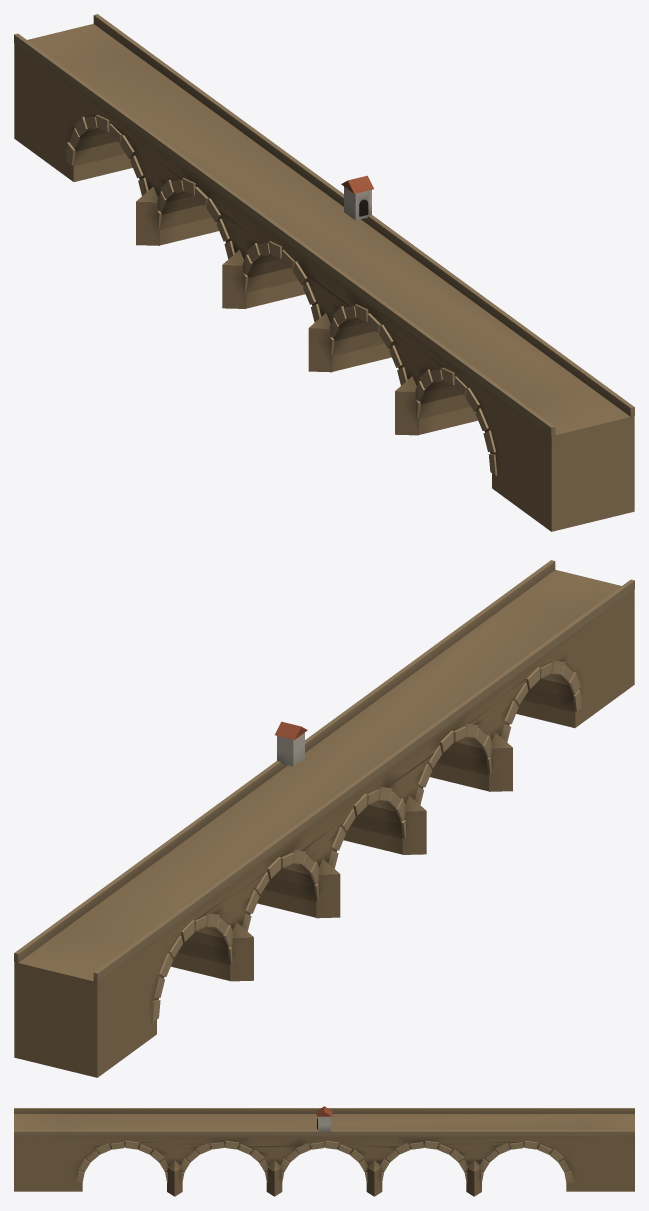
Rendered from ponte-santa-trinita-old.glb.
3 views of the same model, one above another, from view 1: azimuth 30°, elevation 25°; view 2: azimuth 150°, elevation 25°; view 3: azimuth 270°, elevation 25° (orthographic). The views are drawn at different scales.
Visible parts, largest first — view 1: p0_bridge, p1_shrine; view 2: p0_bridge, p1_shrine; view 3: p0_bridge, p1_shrine.
Boxes of the visible parts, bbox=[...] form: p0_bridge: bbox=[14, 14, 634, 531]; p1_shrine: bbox=[341, 175, 373, 220]; p0_bridge: bbox=[14, 560, 634, 1077]; p1_shrine: bbox=[275, 721, 307, 766]; p0_bridge: bbox=[14, 1108, 634, 1196]; p1_shrine: bbox=[316, 1106, 332, 1131].
Bounding box in the file's own units: 14.2 × 16.04 × 112.
